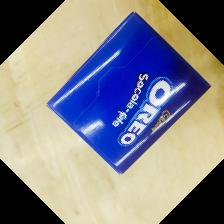Oreo: (47, 12, 211, 175)
